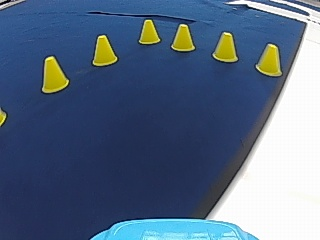cone: (40, 55, 69, 94), (255, 42, 282, 76), (92, 34, 118, 66), (213, 31, 238, 62), (171, 23, 195, 51), (138, 19, 160, 44)
